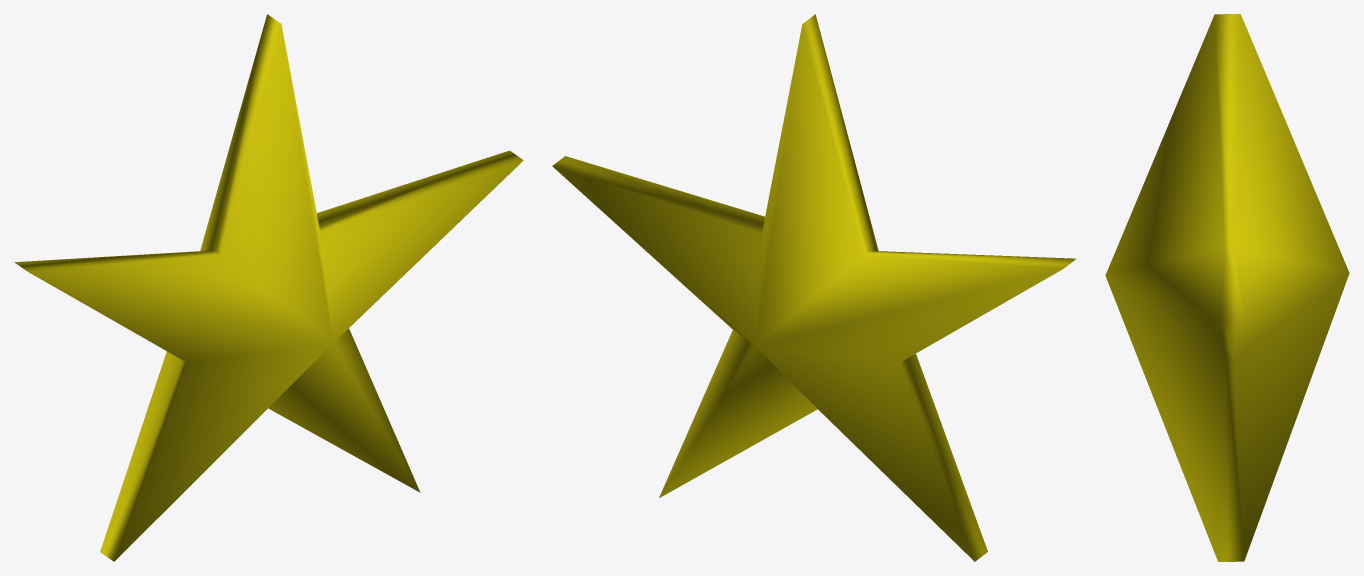
File: StarCollectable.fbx
The picture shows the model from 3 angles, left to right: view 1: azimuth 30°, elevation 25°; view 2: azimuth 150°, elevation 25°; view 3: azimuth 270°, elevation 25°; orthographic projection. The views are drawn at different scales.
Parts seen in each view (by area): view 1: Star_Collectable; view 2: Star_Collectable; view 3: Star_Collectable.
Part boxes in pixels (left/top/right/bottom): Star_Collectable: left=14, top=14, right=523, bottom=561; Star_Collectable: left=552, top=14, right=1076, bottom=561; Star_Collectable: left=1105, top=14, right=1349, bottom=561.
Bounding box in the file's own units: 29.13 × 27.95 × 12.83.
